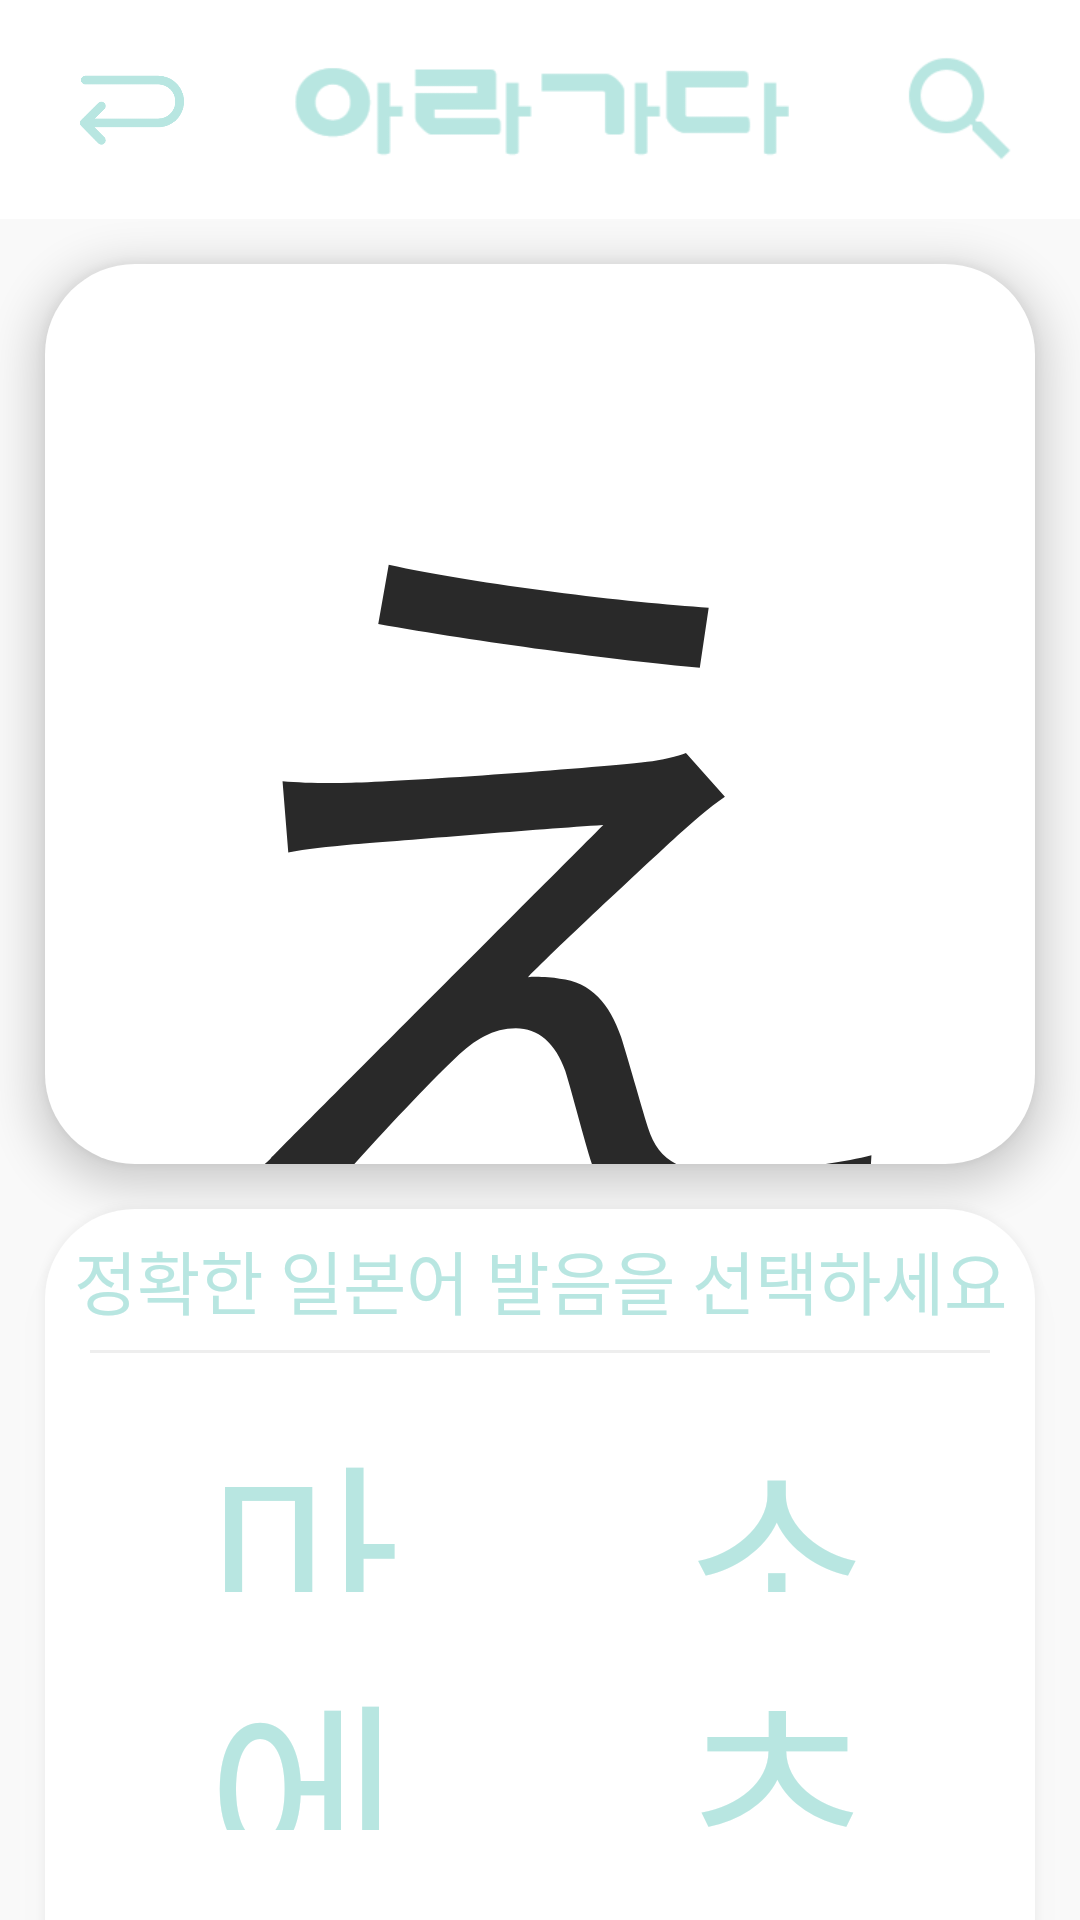

Named icons in this screenshot (1080*1920) and their bounding boxes, (x1,y1,x2,y2):
back: (80,76,184,145)
search: (909,58,1010,159)
